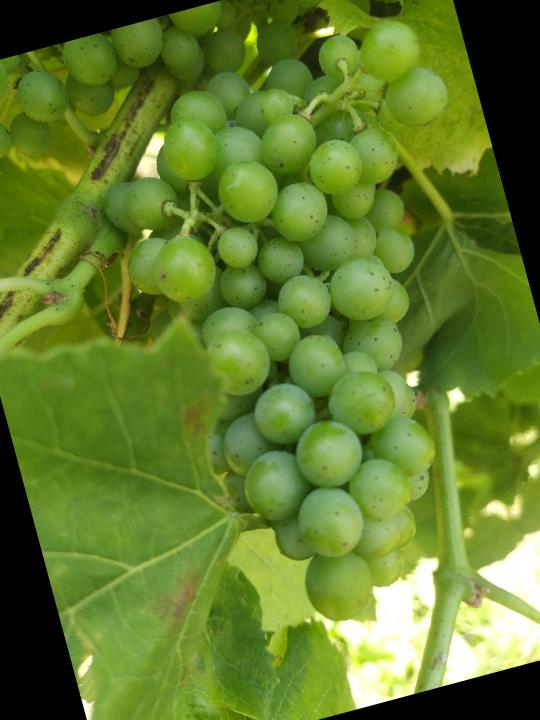grape: (69, 7, 540, 658)
